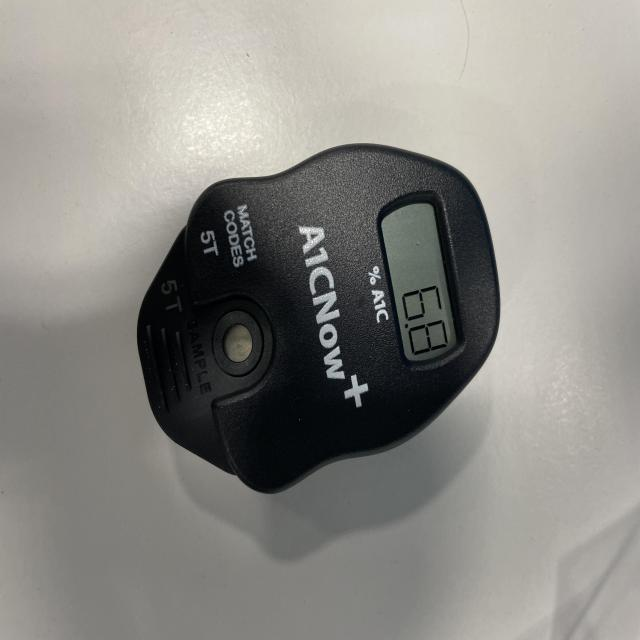hba1c: (135, 143, 502, 497)
